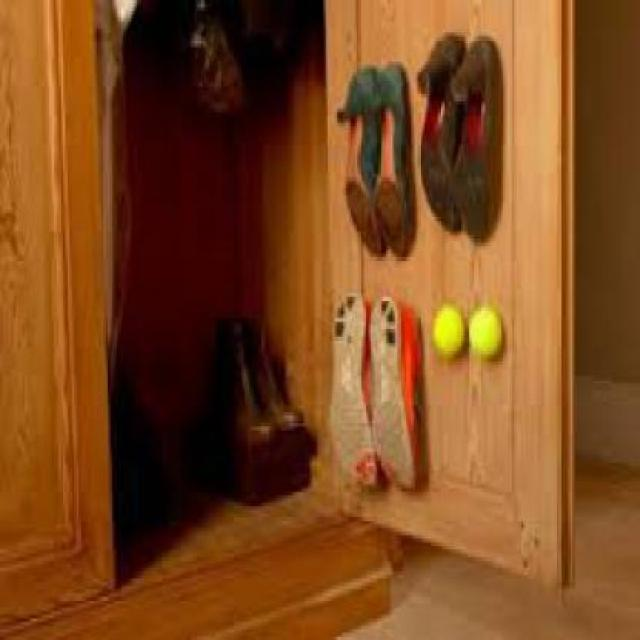Tennis_Ball: (469, 307, 502, 361), (436, 307, 466, 356)
